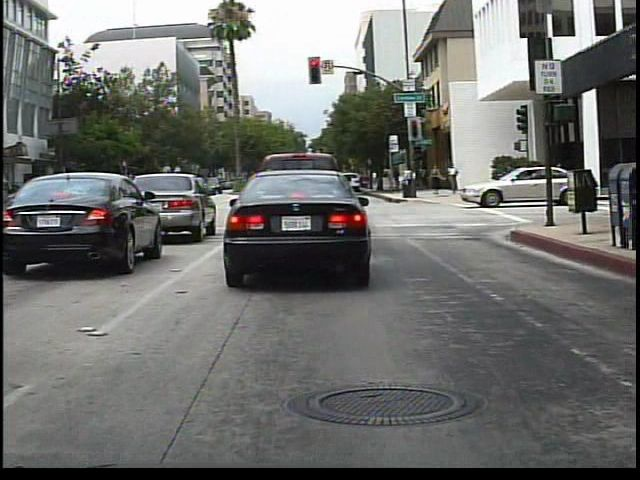person: (505, 156, 528, 200), (428, 160, 446, 199), (444, 161, 461, 197)
